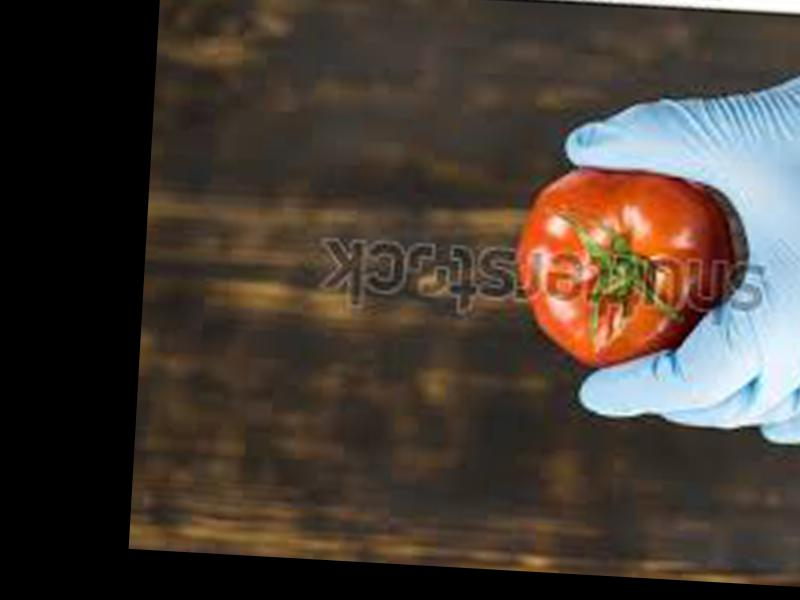Tomato: (508, 161, 741, 374)
